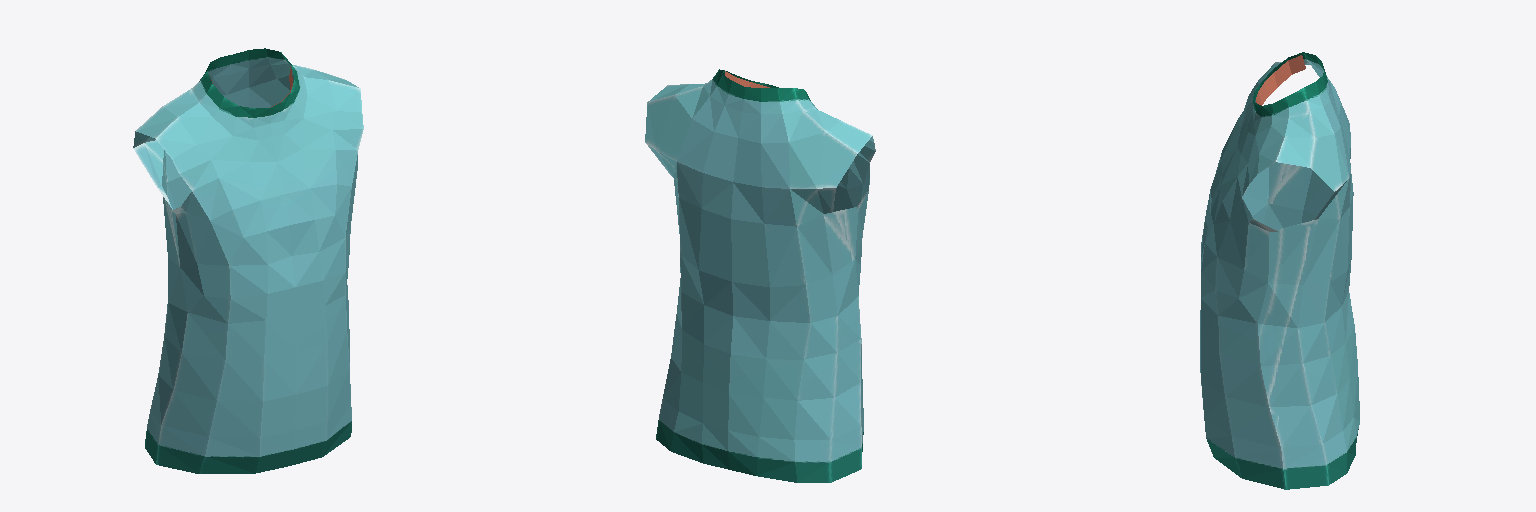
The picture shows the model from 3 angles: view 1: azimuth 30°, elevation 25°; view 2: azimuth 150°, elevation 25°; view 3: azimuth 270°, elevation 25°; orthographic projection.
Visible parts, largest first — view 1: torso; view 2: torso; view 3: torso.
Boxes of the visible parts, x1=… form: torso: x1=133, y1=48, x2=363, y2=473; torso: x1=645, y1=69, x2=875, y2=482; torso: x1=1200, y1=52, x2=1359, y2=489.
Size of the model in its own units: 0.3509 by 0.5987 by 0.2313.
Materials: 2 (1 with a texture image).